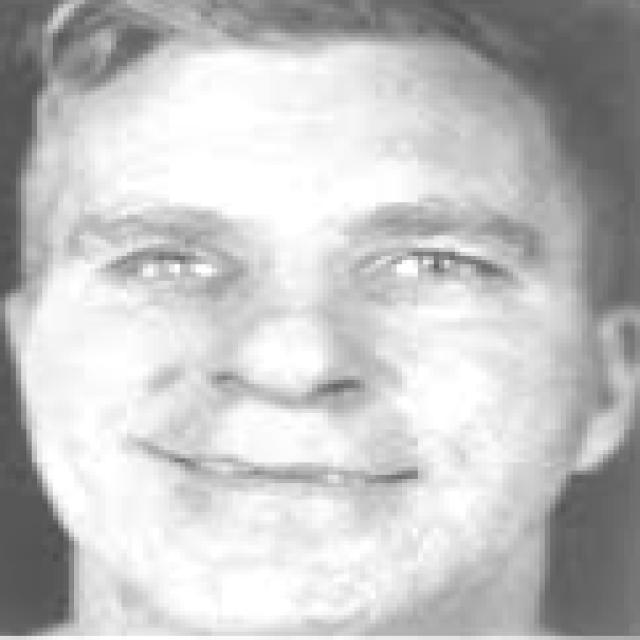stroke_face: (122, 54, 524, 596)
